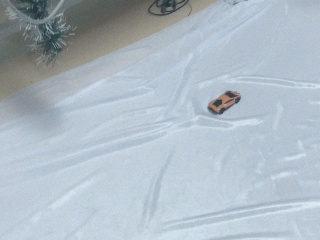toy_car: (207, 90, 241, 115)
